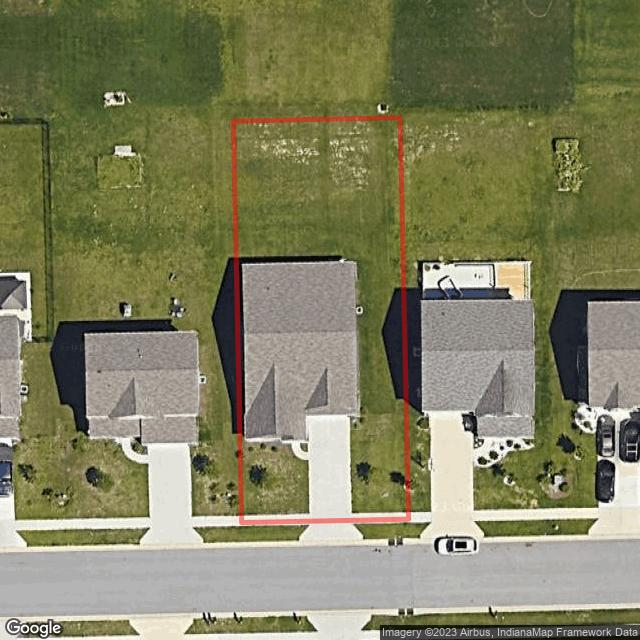Driveway: (308, 414, 351, 517)
Extra Driveway: (300, 524, 362, 542)
Extra Lawn: (242, 527, 305, 542), (356, 524, 409, 541)
Extra Sidewalk: (244, 515, 308, 525), (354, 513, 409, 524)
House: (241, 260, 359, 441)
Sidewalk: (292, 441, 309, 460)
